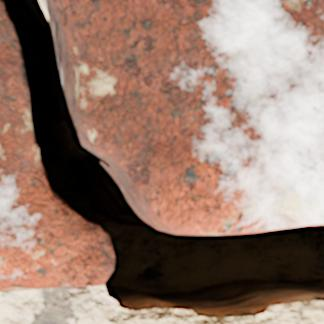broken_brick: (57, 0, 323, 232), (0, 0, 113, 292)
crack: (2, 0, 323, 323)
